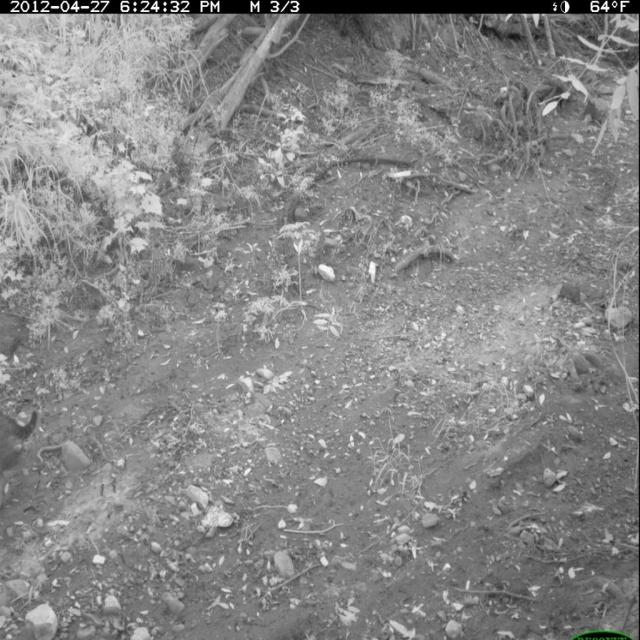cat: (1, 387, 46, 482)
